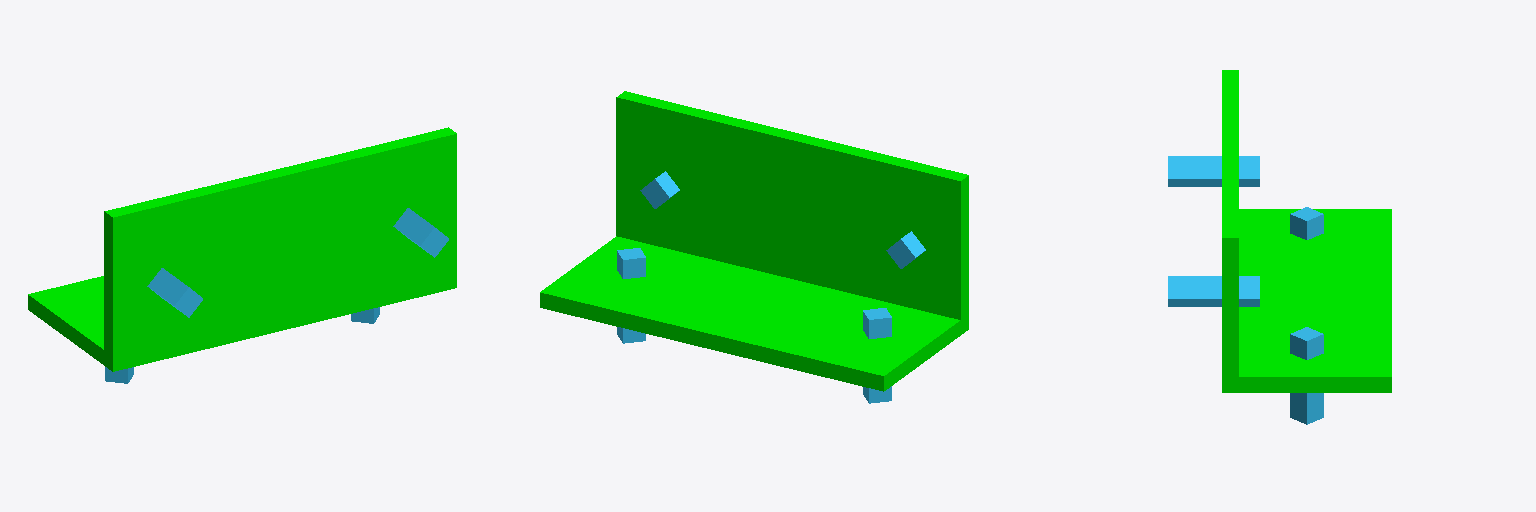
Rendered from ass_30.obj.
3 views of the same model, side by side, from view 1: azimuth 30°, elevation 25°; view 2: azimuth 150°, elevation 25°; view 3: azimuth 270°, elevation 25° (orthographic).
Visible parts, largest first — view 1: 30 111408 L60x6 KOPPELSTUK S235JR, M12x25 1   8.8 111410, M12x25 1   8.8 111409; view 2: 30 111408 L60x6 KOPPELSTUK S235JR, M12x25 1   8.8 111409, M12x25 1   8.8 111410; view 3: 30 111408 L60x6 KOPPELSTUK S235JR, M12x25 1   8.8 111410, M12x25 1   8.8 111409.
Part boxes in pixels (bbox=[...]): 30 111408 L60x6 KOPPELSTUK S235JR: bbox=[28, 127, 456, 371]; M12x25 1   8.8 111410: bbox=[147, 208, 448, 317]; M12x25 1   8.8 111409: bbox=[105, 307, 379, 383]; 30 111408 L60x6 KOPPELSTUK S235JR: bbox=[540, 91, 968, 391]; M12x25 1   8.8 111409: bbox=[617, 248, 891, 403]; M12x25 1   8.8 111410: bbox=[640, 171, 925, 268]; 30 111408 L60x6 KOPPELSTUK S235JR: bbox=[1222, 70, 1391, 392]; M12x25 1   8.8 111410: bbox=[1168, 156, 1259, 306]; M12x25 1   8.8 111409: bbox=[1290, 207, 1323, 424].
Bounding box in the file's own units: 140 × 79 × 79.